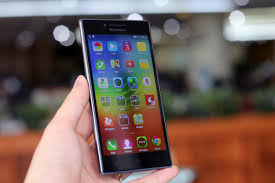lenovo: (77, 16, 174, 175)
